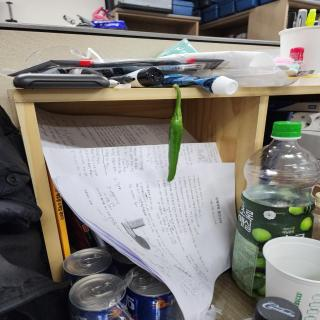Cabai Hijau: (159, 84, 190, 191)
